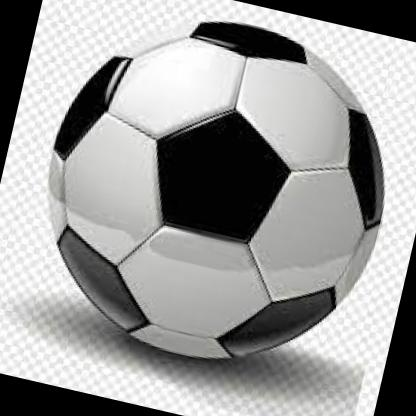ball: (14, 0, 416, 392)
